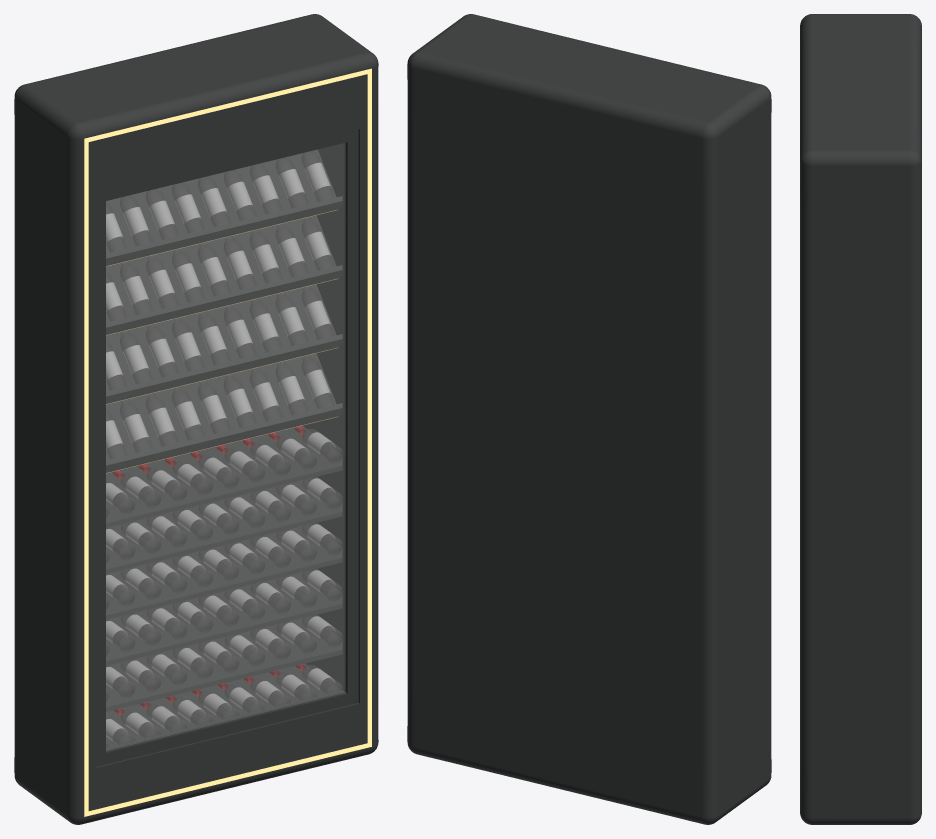
Rendered from cave-vin.glb.
The picture shows the model from 3 angles, left to right: view 1: azimuth 30°, elevation 25°; view 2: azimuth 150°, elevation 25°; view 3: azimuth 270°, elevation 25°; orthographic projection. The views are drawn at different scales.
Visible parts, largest first — view 1: Object_22_/Verre_0, Object_19_/Noir mat_0, Object_21_/Noir mat_0, Object_17_/Noir mat_0, Object_15_/Noir mat_0, Object_18_/Noir mat_0, Object_16_/Noir mat_0, Object_20_/LED_5500k cave_0, Object_6_/Noir mat_0, Object_7_/Noir mat_0, Object_10_/Noir mat_0, Object_8_/Noir mat_0 (+1 smaller); view 2: Object_19_/Noir mat_0; view 3: Object_19_/Noir mat_0.
Part boxes in pixels (x1,y1,x2,y2): Object_22_/Verre_0: [106, 143, 345, 750]; Object_19_/Noir mat_0: [14, 14, 378, 824]; Object_21_/Noir mat_0: [96, 129, 358, 766]; Object_17_/Noir mat_0: [106, 215, 342, 334]; Object_15_/Noir mat_0: [106, 353, 342, 472]; Object_18_/Noir mat_0: [106, 284, 342, 403]; Object_16_/Noir mat_0: [106, 149, 342, 265]; Object_20_/LED_5500k cave_0: [84, 68, 371, 816]; Object_6_/Noir mat_0: [106, 426, 342, 527]; Object_7_/Noir mat_0: [106, 479, 342, 573]; Object_10_/Noir mat_0: [106, 616, 342, 711]; Object_8_/Noir mat_0: [106, 525, 342, 619]; Object_19_/Noir mat_0: [407, 14, 771, 824]; Object_19_/Noir mat_0: [800, 14, 921, 824].
Size of the model in its own units: 1.41 by 3.05 by 0.5.
